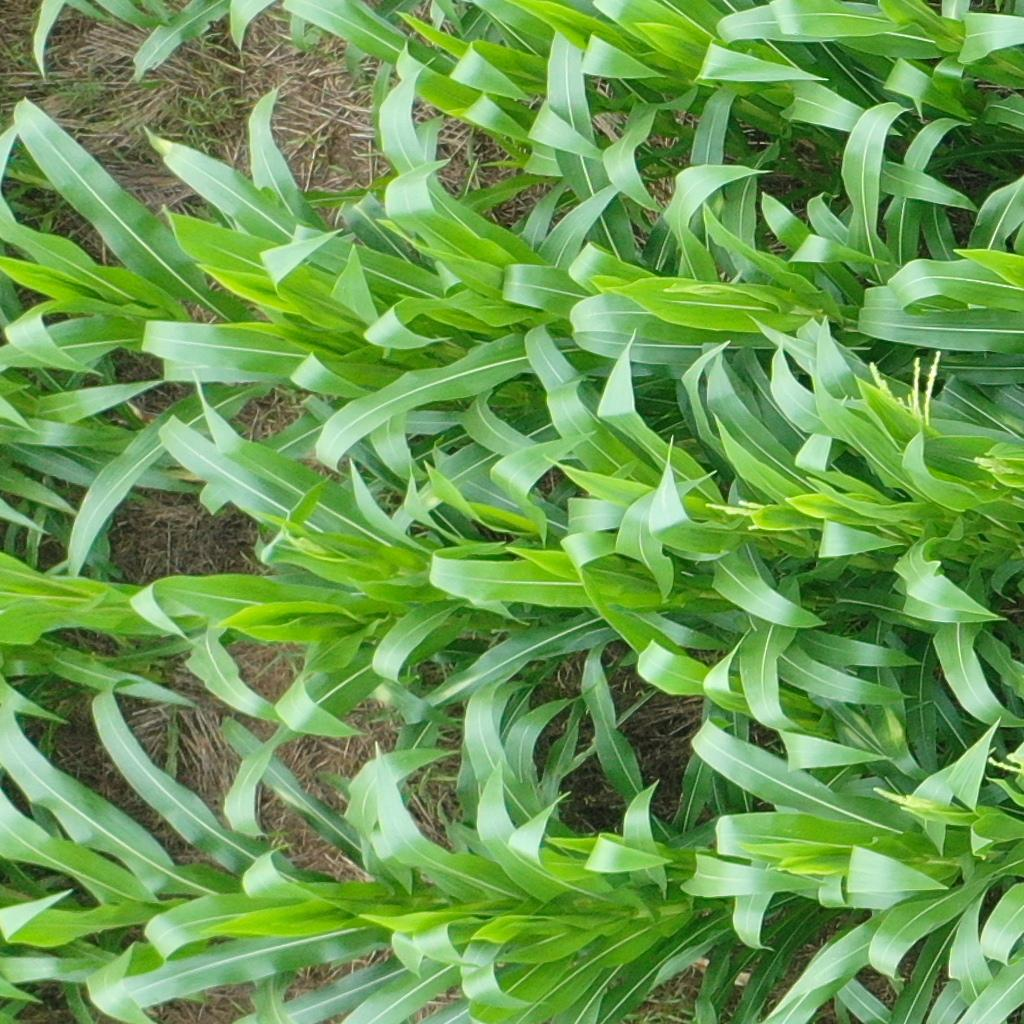Tassel: (861, 347, 943, 430), (703, 492, 776, 537), (871, 781, 934, 818), (987, 738, 1019, 782)
